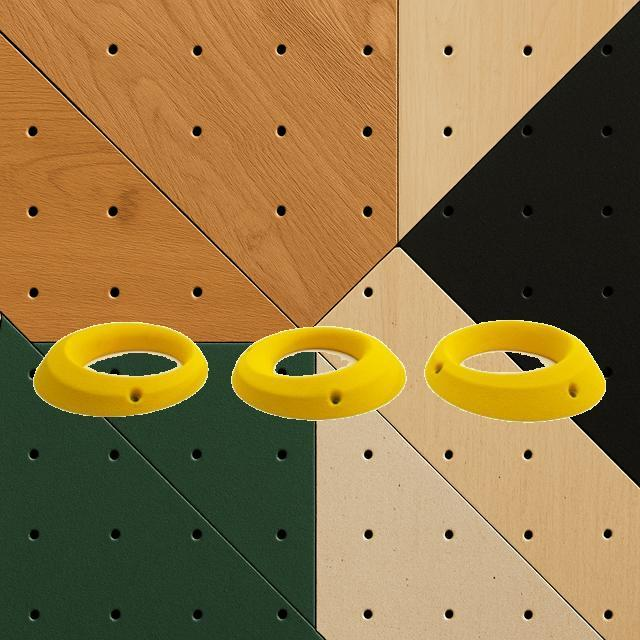Crimp: (424, 318, 606, 422), (32, 320, 208, 416), (230, 324, 406, 420)
